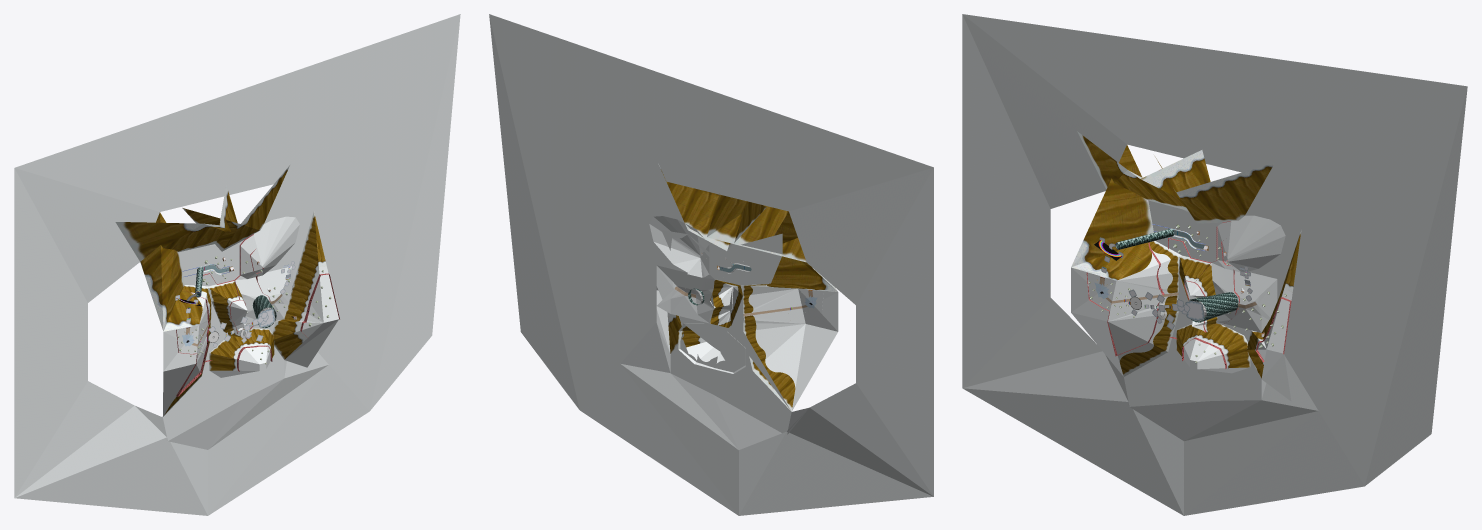
The picture shows the model from 3 angles, left to right: view 1: azimuth 30°, elevation 25°; view 2: azimuth 150°, elevation 25°; view 3: azimuth 330°, elevation 25°; orthographic projection. The views are drawn at different scales.
Visible parts, largest first — view 1: _1_SKP__snow, _1_SKP__snow_wall_HD, _1_SKP__gate, _1_SKP__round_cloud, _1_SKP__whirlwind_texture; view 2: _1_SKP__snow, _1_SKP__snow_wall_HD; view 3: _1_SKP__snow, _1_SKP__snow_wall_HD, _1_SKP__whirlwind_texture, _1_SKP__round_cloud, _1_SKP__gate.
Boxes of the visible parts, left/top/right/bottom form: _1_SKP__snow: left=14, top=14, right=460, bottom=515; _1_SKP__snow_wall_HD: left=115, top=165, right=326, bottom=416; _1_SKP__gate: left=176, top=234, right=339, bottom=396; _1_SKP__round_cloud: left=175, top=261, right=295, bottom=347; _1_SKP__whirlwind_texture: left=195, top=266, right=276, bottom=328; _1_SKP__snow: left=489, top=14, right=933, bottom=515; _1_SKP__snow_wall_HD: left=658, top=164, right=837, bottom=411; _1_SKP__snow: left=962, top=14, right=1467, bottom=515; _1_SKP__snow_wall_HD: left=1071, top=131, right=1301, bottom=378; _1_SKP__whirlwind_texture: left=1116, top=228, right=1238, bottom=322; _1_SKP__round_cloud: left=1099, top=237, right=1252, bottom=330; _1_SKP__gate: left=1086, top=221, right=1291, bottom=368.
Bounding box in the file's own units: 760226 × 718658 × 96793.
Materials: 47 (47 with a texture image).
